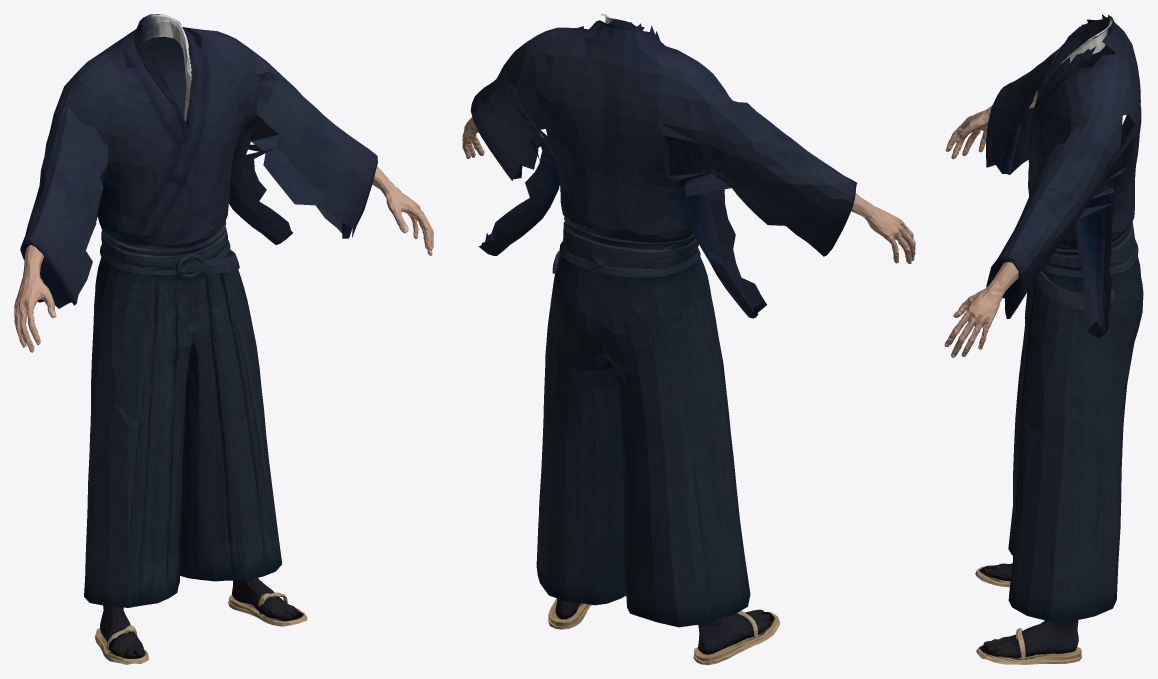
Rendered from ewm_t2swordfighterm_outfit.glb.
The picture shows the model from 3 angles, left to right: view 1: azimuth 30°, elevation 25°; view 2: azimuth 150°, elevation 25°; view 3: azimuth 270°, elevation 25°; orthographic projection. The views are drawn at different scales.
Parts seen in each view (by area): view 1: ewm_t2swordfighterm_outfit; view 2: ewm_t2swordfighterm_outfit; view 3: ewm_t2swordfighterm_outfit.
Part boxes in pixels (<box>): ewm_t2swordfighterm_outfit: <box>14,14,433,664</box>; ewm_t2swordfighterm_outfit: <box>462,14,915,664</box>; ewm_t2swordfighterm_outfit: <box>944,14,1143,664</box>.
Bounding box in the file's own units: 1.22 × 1.67 × 0.4991.
1 material, 1 textured.
